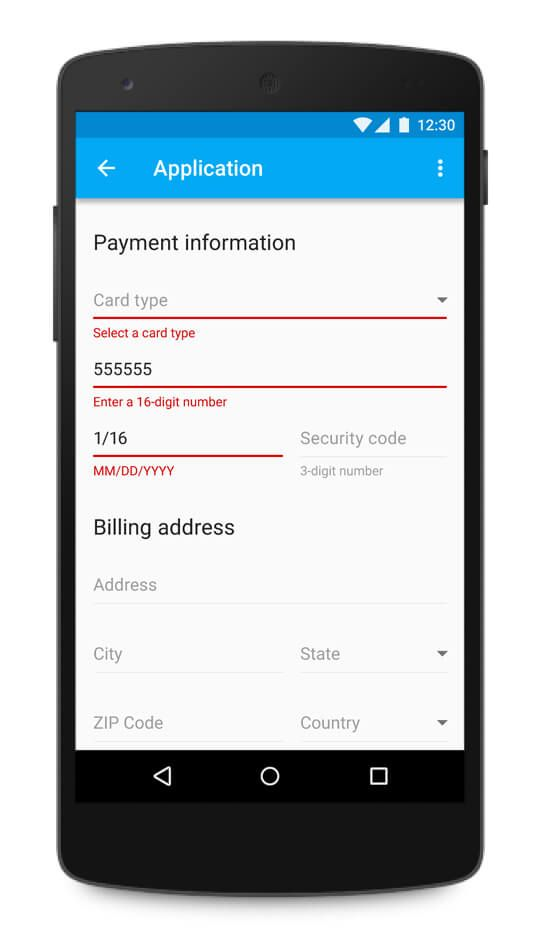error_field: (93, 356, 448, 391), (88, 286, 450, 320), (90, 428, 286, 458)
error_message: (93, 394, 229, 409), (92, 326, 198, 341), (92, 463, 178, 478)
